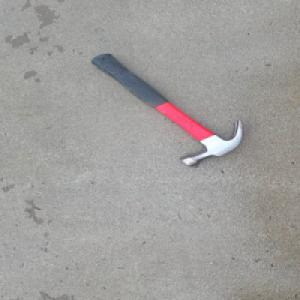Hammer: (85, 49, 244, 169)
